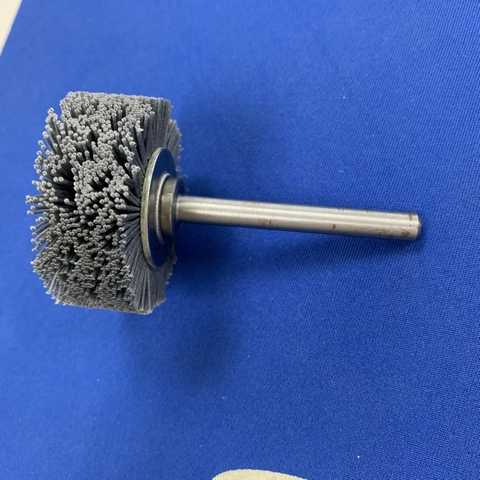Wheel Brush: (29, 81, 434, 337), (32, 90, 431, 307), (17, 72, 343, 321), (45, 99, 420, 310)
